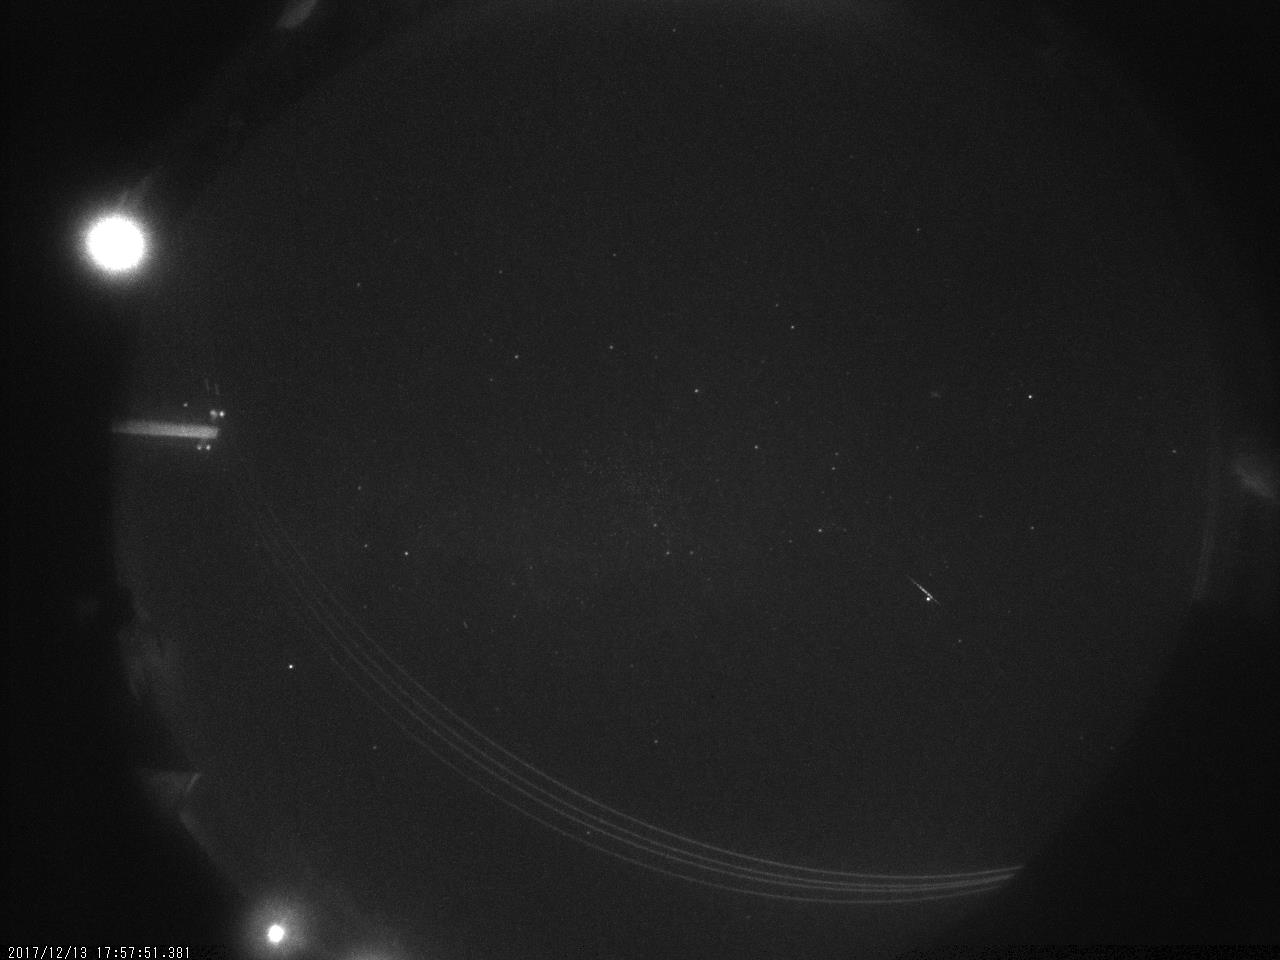meteor: (898, 566, 960, 619)
